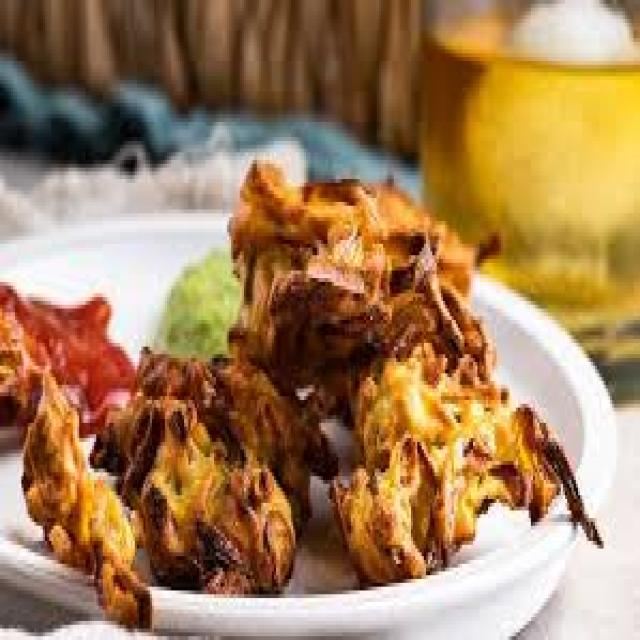BAJI: (324, 292, 580, 571), (238, 163, 488, 420), (113, 344, 308, 593), (27, 396, 135, 611)
